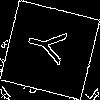Y: (25, 24, 76, 68)
